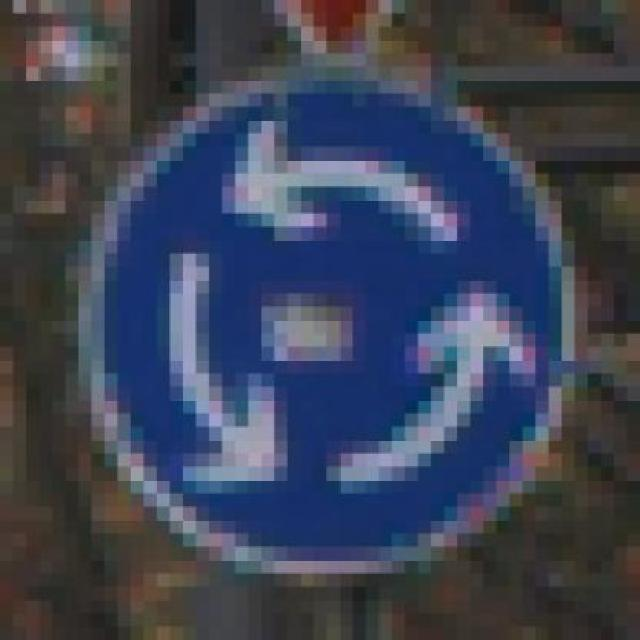Round-About: (26, 53, 614, 601)
